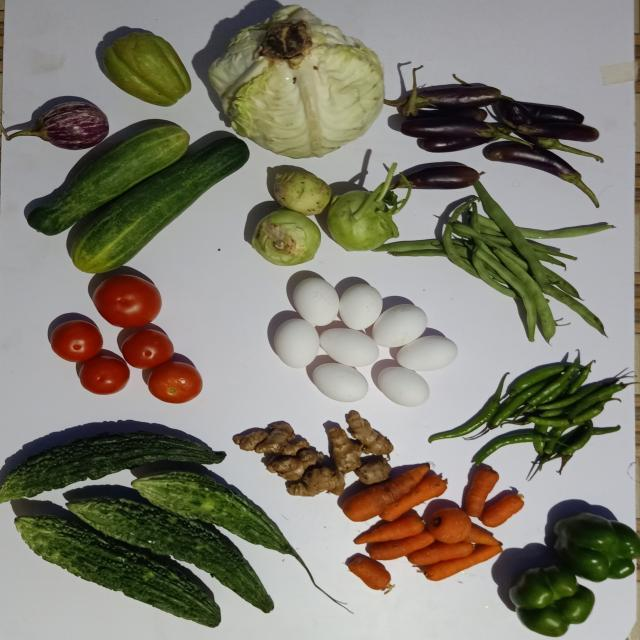Bitter Gourd: (130, 470, 353, 617), (71, 488, 275, 617), (17, 507, 229, 628), (0, 424, 231, 510)
Brinjal: (479, 137, 608, 209), (402, 113, 520, 146), (389, 79, 511, 109), (406, 157, 486, 190), (493, 99, 591, 123)
Cabbage: (207, 1, 390, 160)
Capsicum: (528, 505, 634, 587), (505, 567, 611, 640)
Carrot: (334, 466, 429, 532), (423, 538, 512, 588), (349, 506, 431, 552), (383, 477, 461, 521), (340, 554, 404, 595), (366, 532, 434, 569), (482, 489, 532, 529), (451, 479, 500, 518)
Chayote: (93, 28, 193, 105)
Cucumber: (67, 130, 254, 272), (22, 125, 187, 236)
Egg: (305, 359, 375, 406), (372, 299, 432, 353), (269, 315, 323, 374), (402, 332, 468, 377), (315, 330, 388, 369), (378, 368, 440, 412), (292, 275, 339, 322), (339, 282, 381, 331)
Eggplant: (1, 104, 106, 147)
Ginger: (233, 424, 351, 506), (350, 410, 406, 482), (316, 410, 366, 471)
Tomato: (33, 312, 113, 372), (89, 270, 162, 330), (139, 358, 212, 409), (70, 351, 132, 398), (119, 324, 184, 368)
Turnip: (332, 166, 410, 253), (237, 210, 328, 267), (266, 164, 336, 215)
